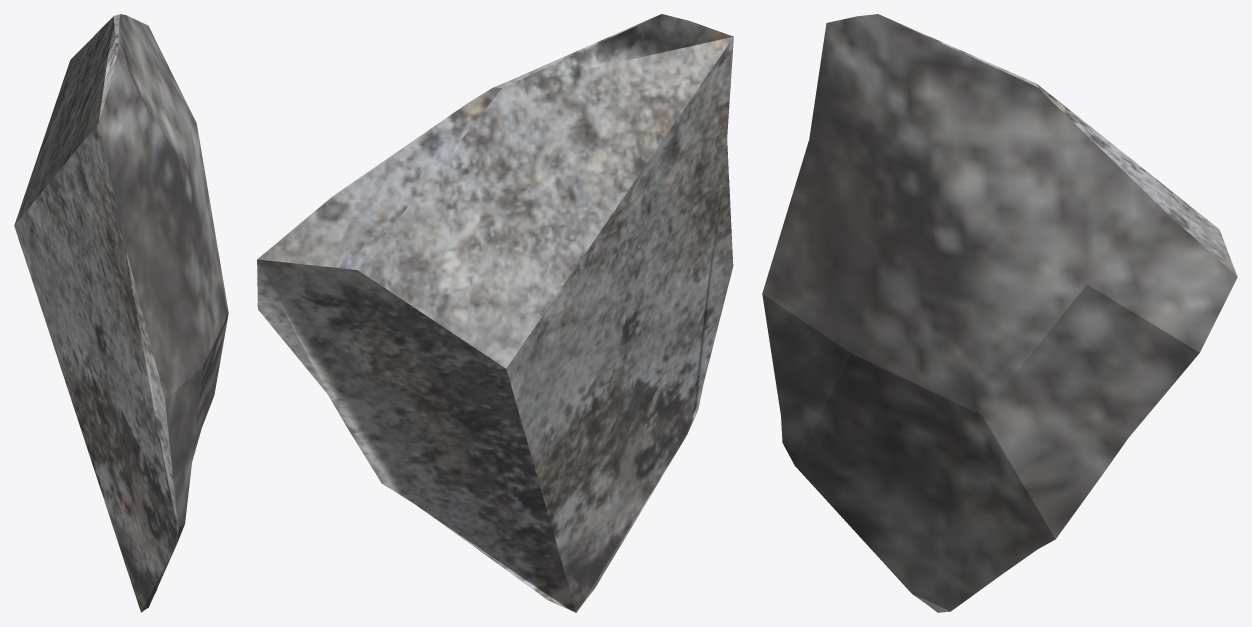
File: Asteroid_Large_001_02_007_03_012.fbx
The picture shows the model from 3 angles, left to right: view 1: azimuth 30°, elevation 25°; view 2: azimuth 150°, elevation 25°; view 3: azimuth 270°, elevation 25°; orthographic projection. The views are drawn at different scales.
Visible parts, largest first — view 1: Asteroid_Large_001_02_007_03_012; view 2: Asteroid_Large_001_02_007_03_012; view 3: Asteroid_Large_001_02_007_03_012.
Boxes of the visible parts, x1,y1,x2,y2 form: Asteroid_Large_001_02_007_03_012: [14, 14, 228, 612]; Asteroid_Large_001_02_007_03_012: [257, 14, 733, 612]; Asteroid_Large_001_02_007_03_012: [762, 14, 1237, 612].
Bounding box in the file's own units: 5.07 × 10.07 × 7.58.
